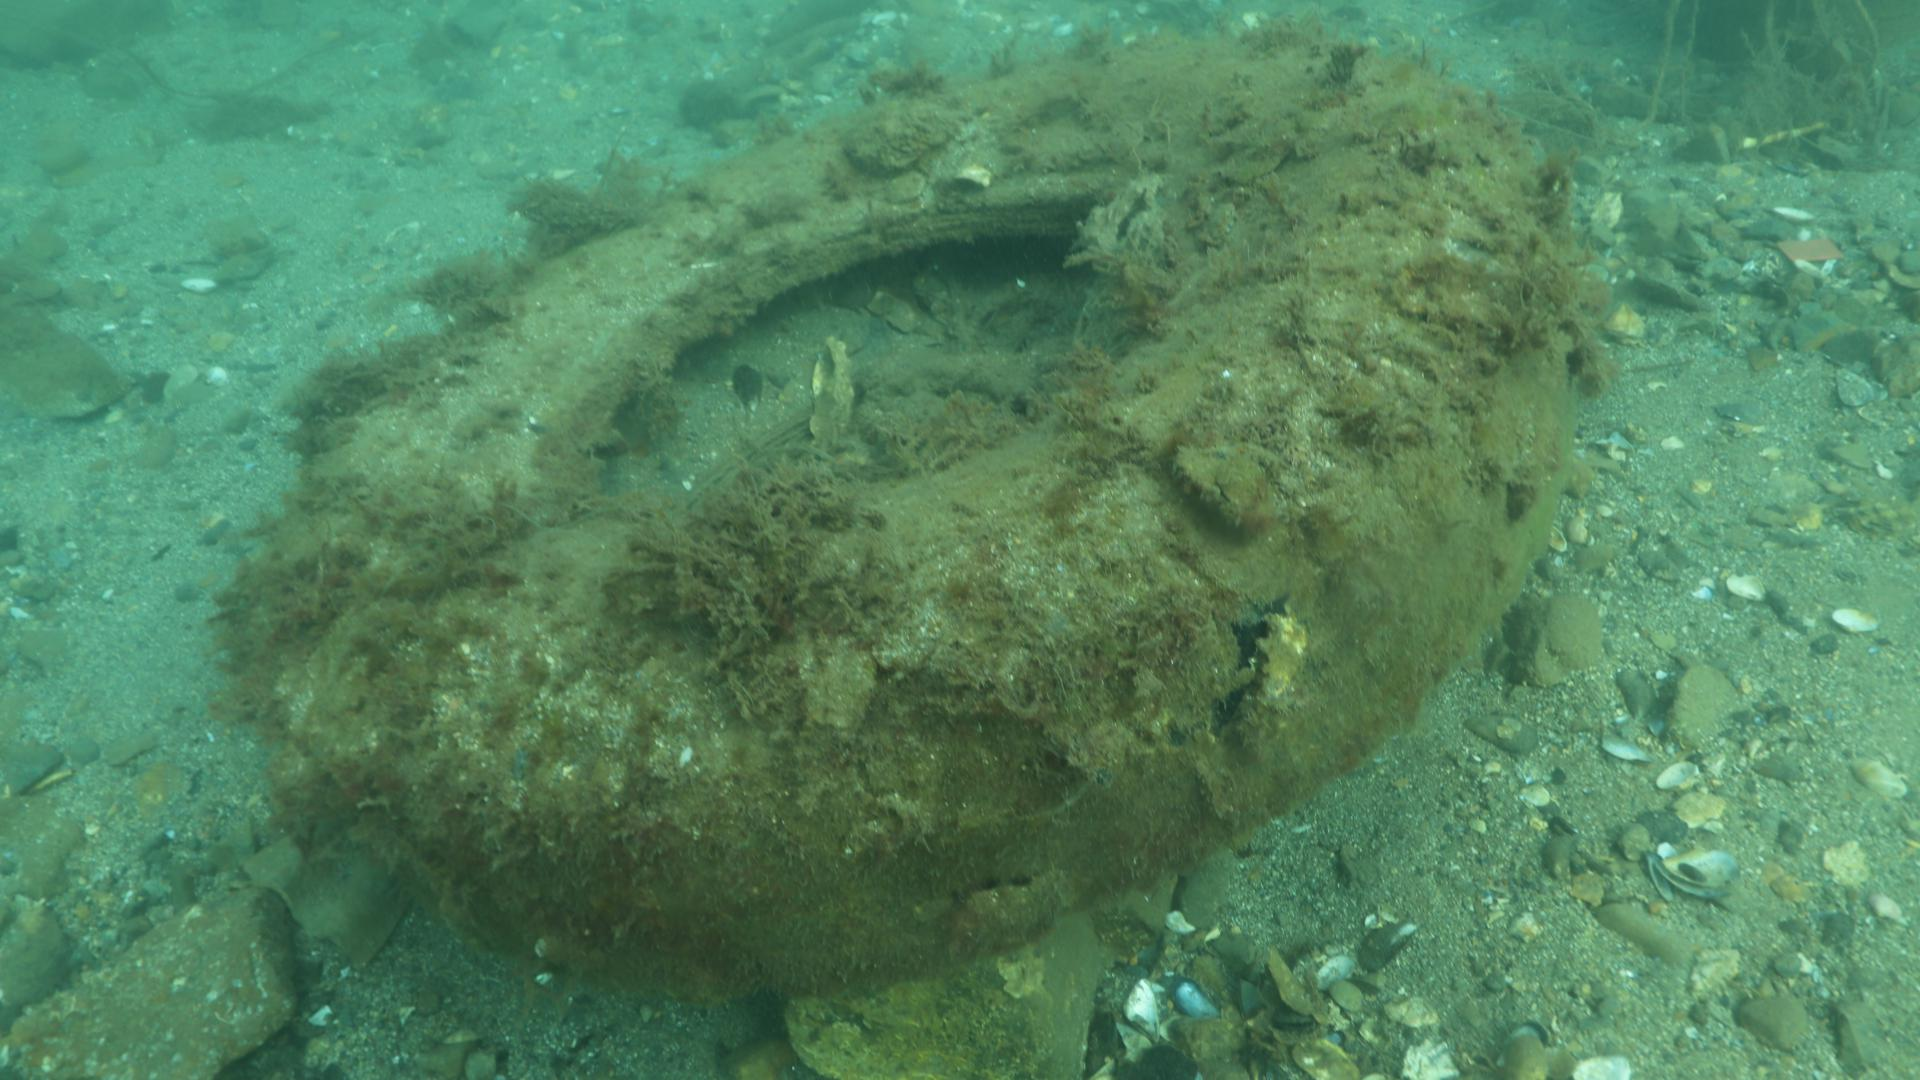tire: (255, 32, 1571, 1000)
